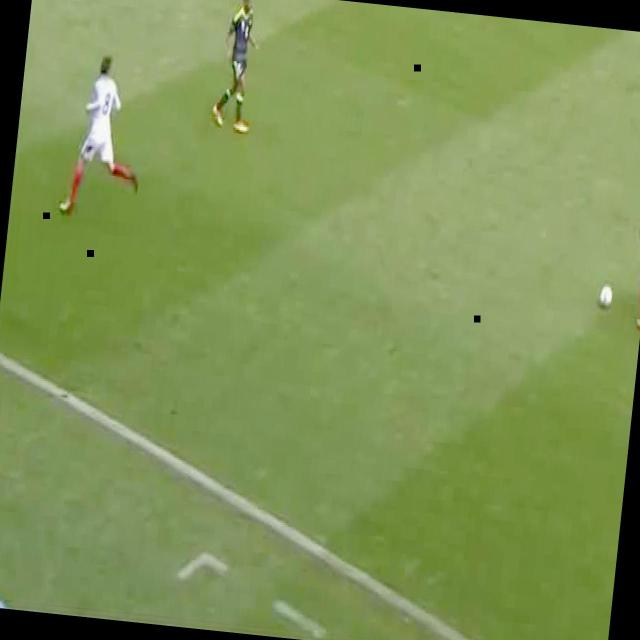ball: (600, 282, 615, 306)
player-white: (60, 53, 150, 224), (210, 0, 265, 134), (628, 165, 640, 342)
